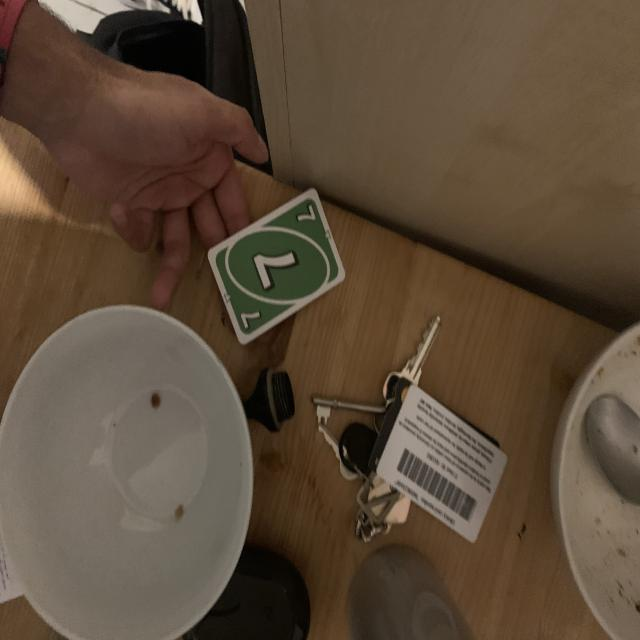lgreen-7: (290, 200, 322, 230)
